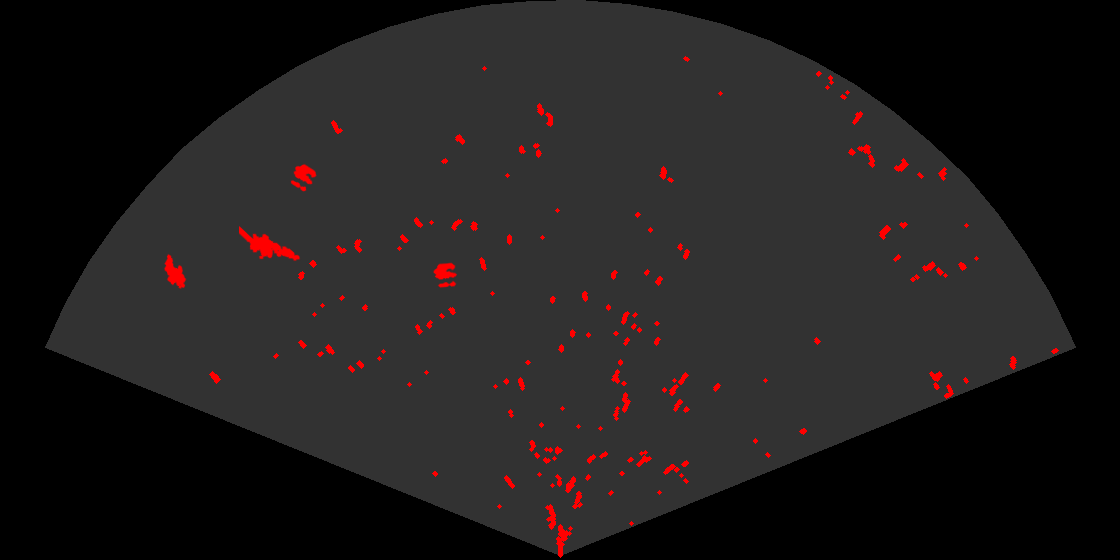AUV: (162, 252, 188, 291)
ball: (289, 162, 318, 193), (432, 261, 459, 289)
frogman: (239, 225, 302, 263)
